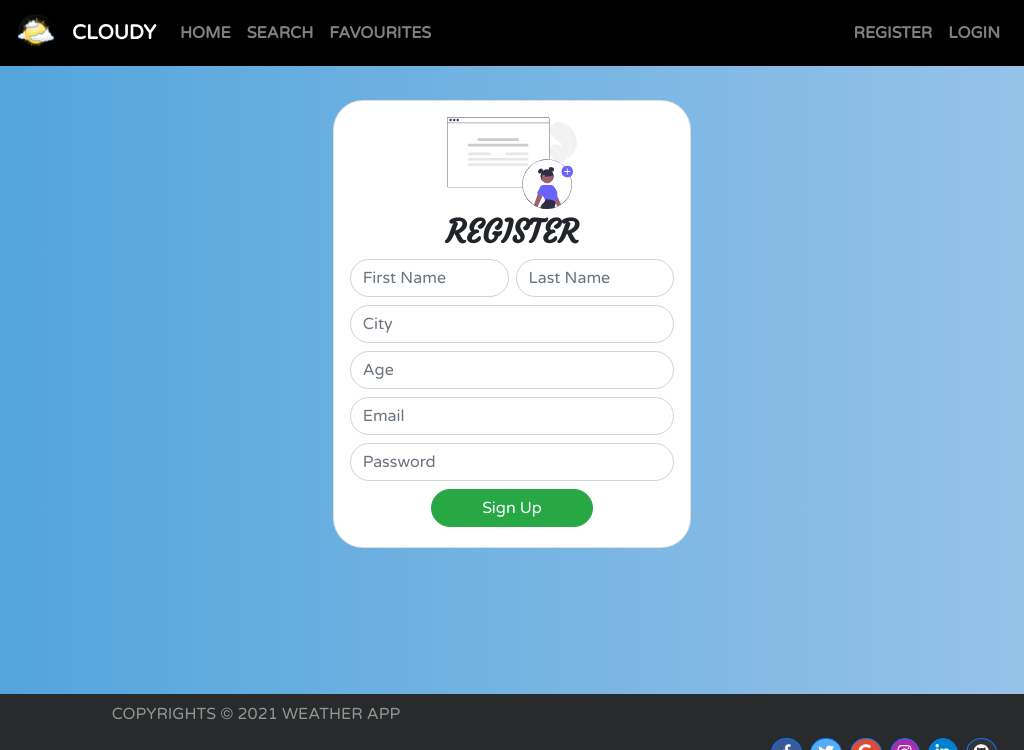
Check the working of Register › Check Invalid Last Name
Type "Abc" into the field with test id "register-first-name" at {"x": 430, "y": 278}, box [350,259,509,297]
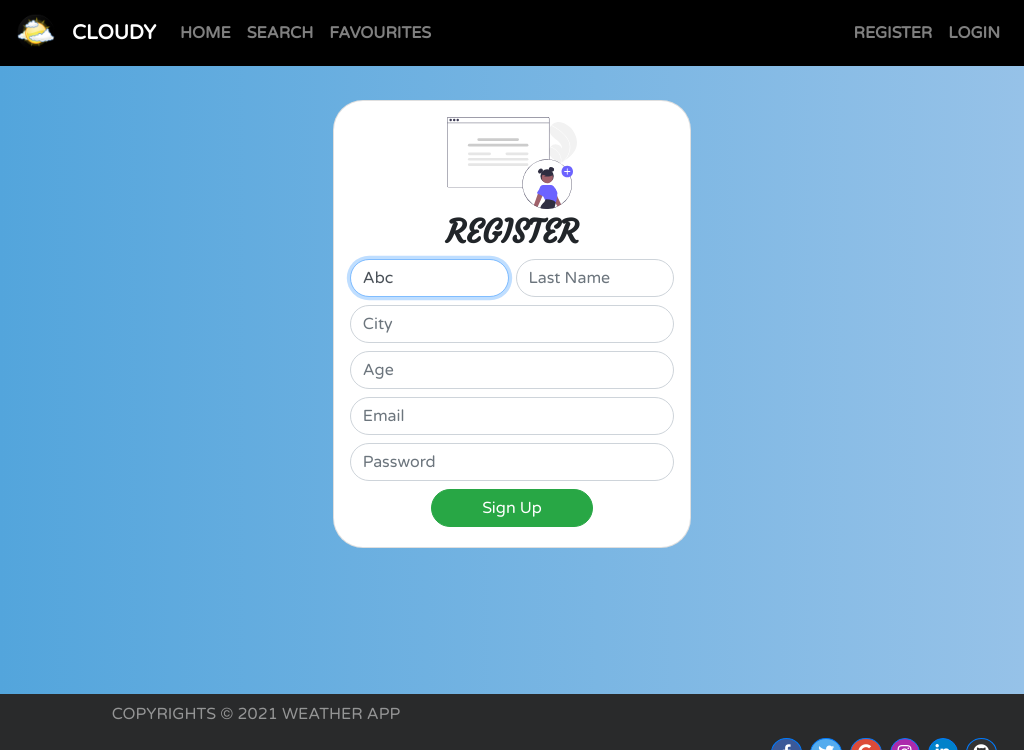
Type "xyz" into the field with test id "register-last-name" at {"x": 596, "y": 278}, box [516,259,675,297]
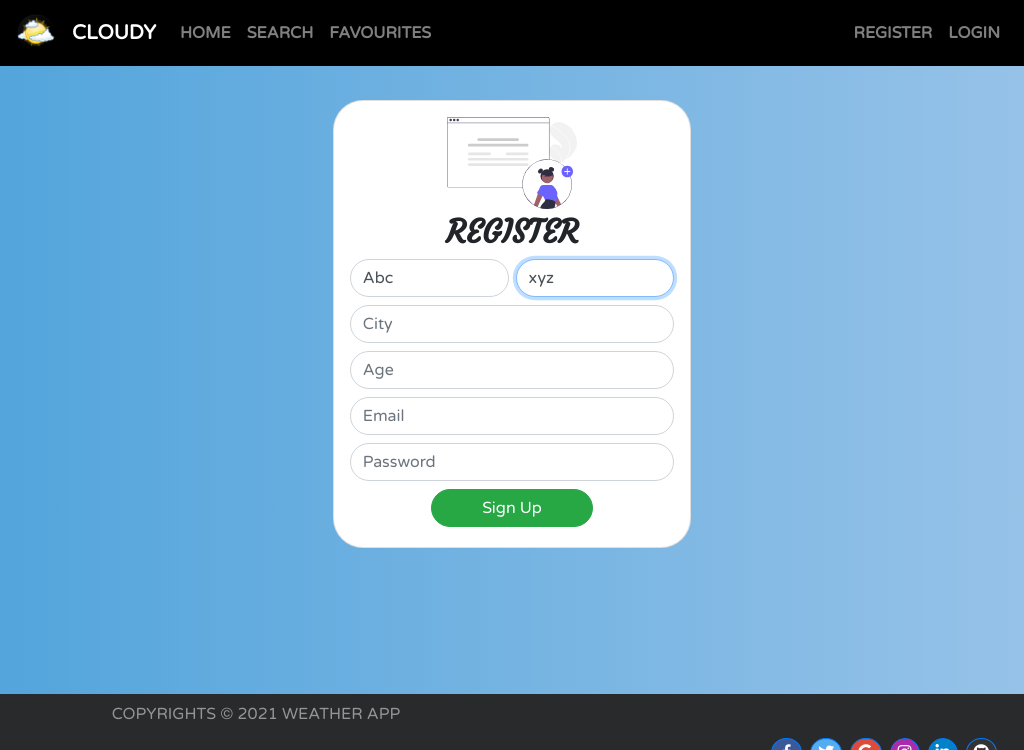
Click the button with test id "signup-btn" at {"x": 512, "y": 508}, box [431,489,593,527]
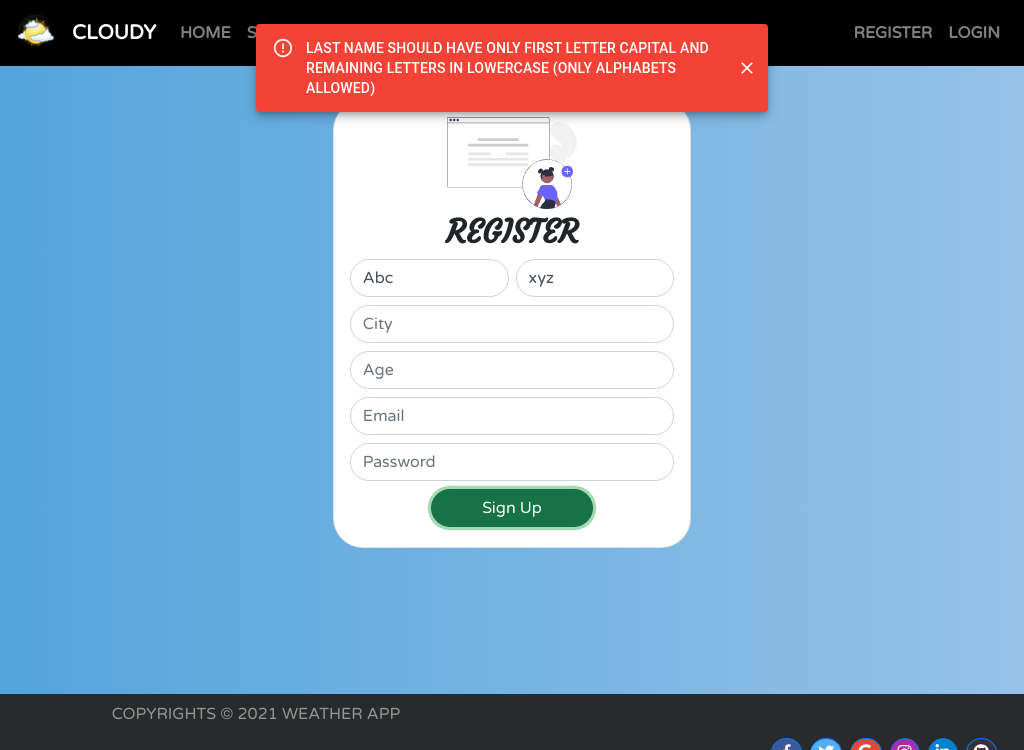
Now the text "Last Name should have only first letter Capital and remaining letters in lowercase (Only Alphabets allowed)" is shown, box [306,30,718,106]
